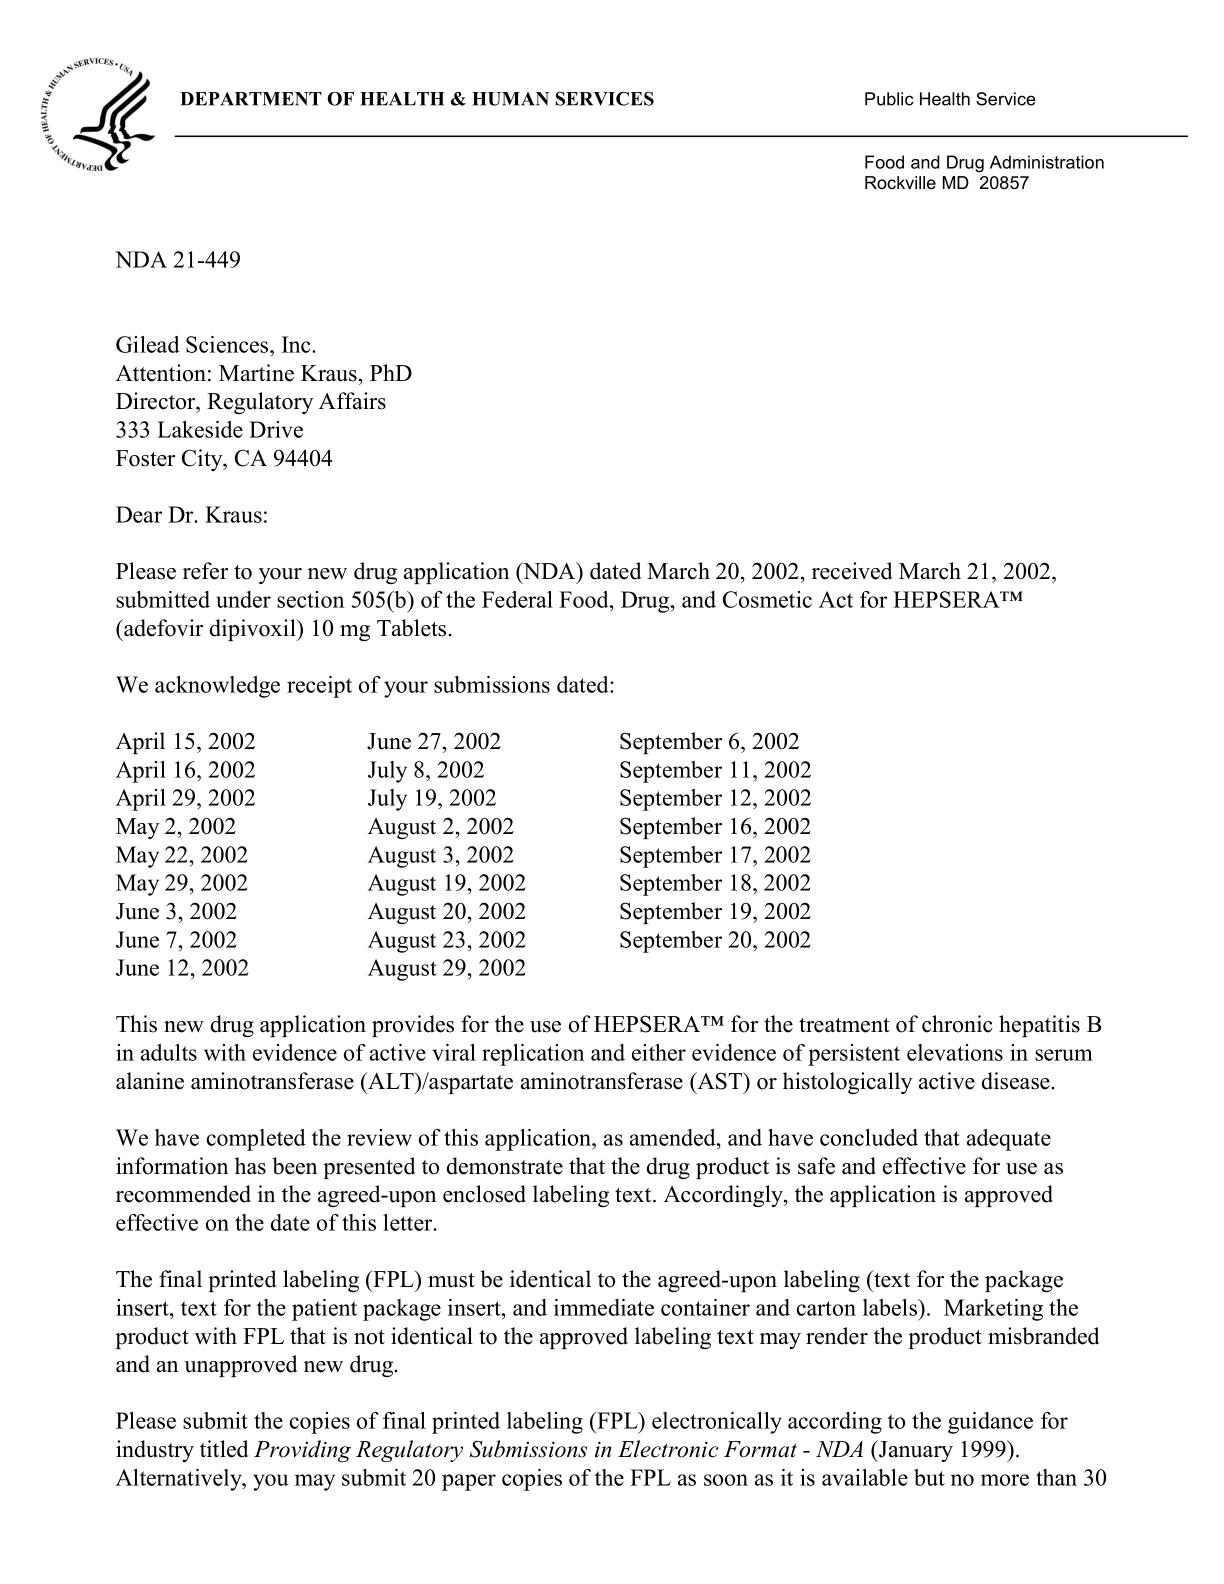nolines: (111, 724, 816, 984)
